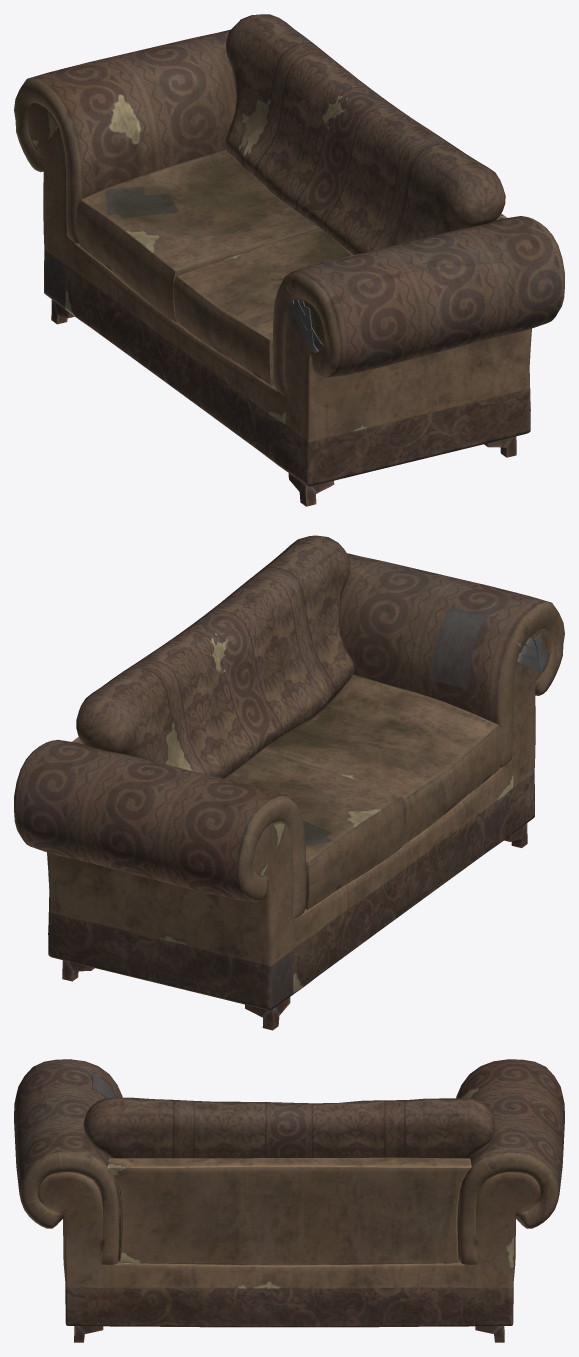
File: SM_Sofa.fbx
The picture shows the model from 3 angles, top to bottom: view 1: azimuth 30°, elevation 25°; view 2: azimuth 150°, elevation 25°; view 3: azimuth 270°, elevation 25°; orthographic projection. The views are drawn at different scales.
Parts seen in each view (by area): view 1: SM_Sofa_LOD0; view 2: SM_Sofa_LOD0; view 3: SM_Sofa_LOD0.
Boxes of the visible parts, x1,y1,x2,y2 form: SM_Sofa_LOD0: (14, 14, 564, 506); SM_Sofa_LOD0: (14, 535, 564, 1030); SM_Sofa_LOD0: (14, 1059, 564, 1342).
Size of the model in its own units: 90.29 by 212 by 98.64.
1 material, 1 textured.
